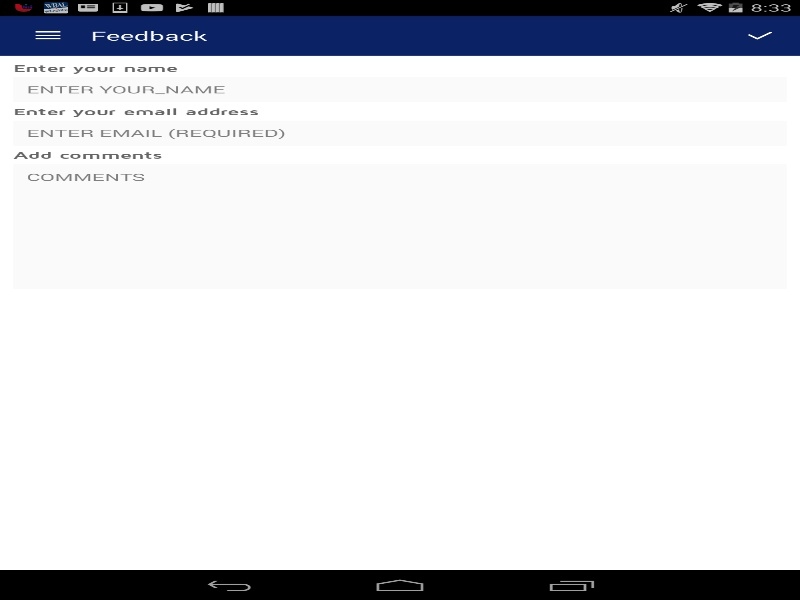Button: (10, 15, 85, 55)
Input: (13, 164, 786, 289), (13, 77, 786, 102), (13, 120, 786, 145)
